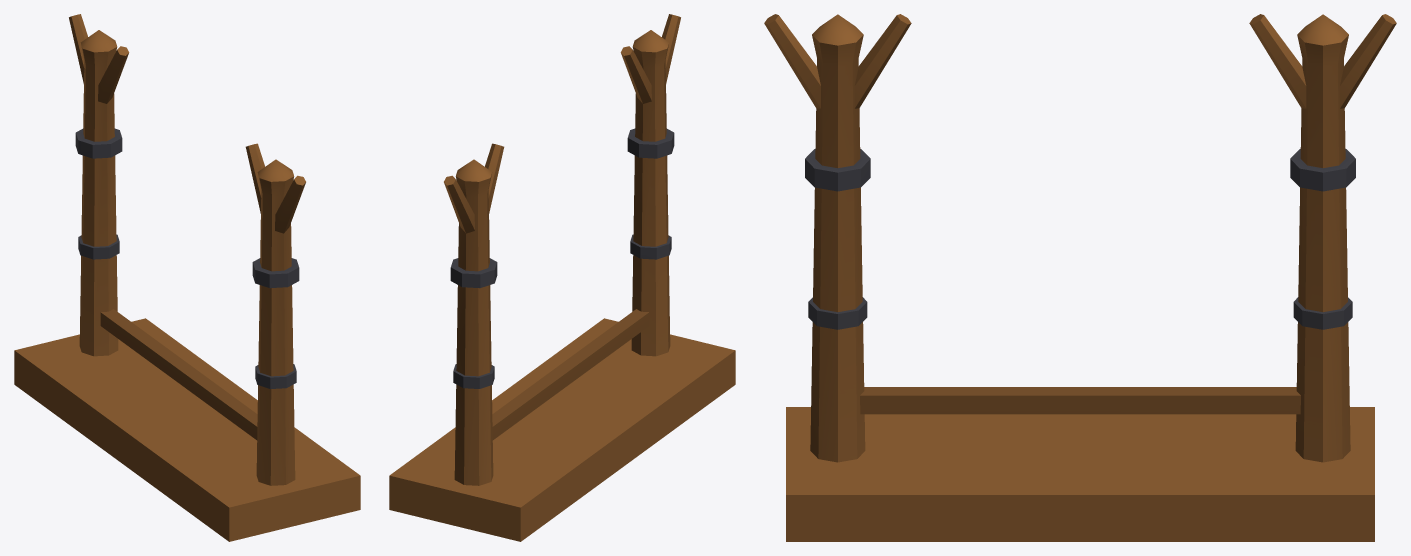
Rendered from wood.glb.
3 renders of one model, left to right at view 1: azimuth 30°, elevation 25°; view 2: azimuth 150°, elevation 25°; view 3: azimuth 270°, elevation 25°, orthographic. The views are drawn at different scales.
Parts seen in each view (by area): view 1: frame, dark; view 2: frame, dark; view 3: frame, dark.
Part boxes in pixels (x1=…): frame: x1=14, y1=14, x2=360, y2=541; dark: x1=75, y1=128, x2=299, y2=388; frame: x1=389, y1=14, x2=735, y2=541; dark: x1=450, y1=128, x2=674, y2=388; frame: x1=764, y1=14, x2=1396, y2=541; dark: x1=805, y1=148, x2=1355, y2=329.
Bounding box in the file's own units: 1.2 × 3.08 × 3.65.
